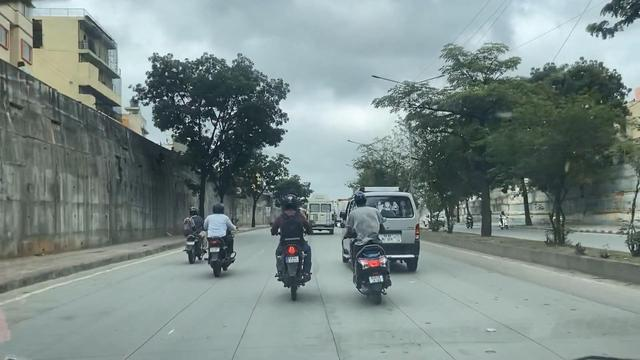LMV: (339, 193, 391, 306), (265, 194, 312, 290), (364, 186, 415, 270), (204, 199, 247, 275), (177, 209, 201, 249)
